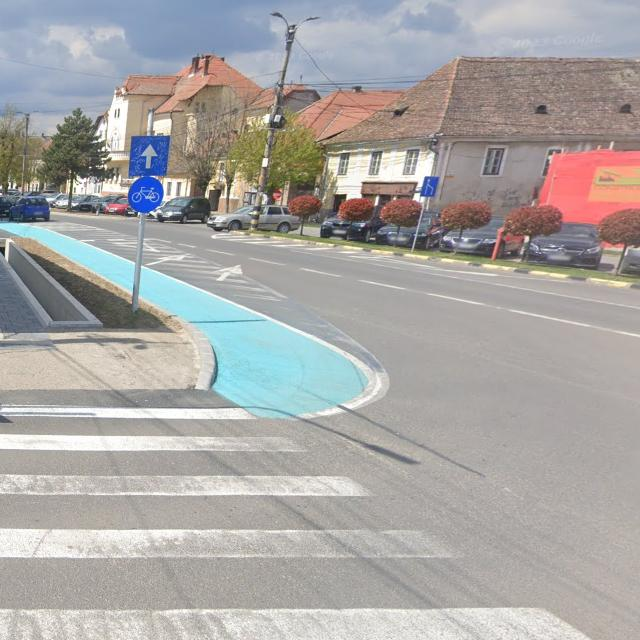forb_ahead: (273, 191, 281, 199)
info_one_way_traffic: (128, 136, 170, 177)
mand_bike_lane: (128, 176, 164, 212)
